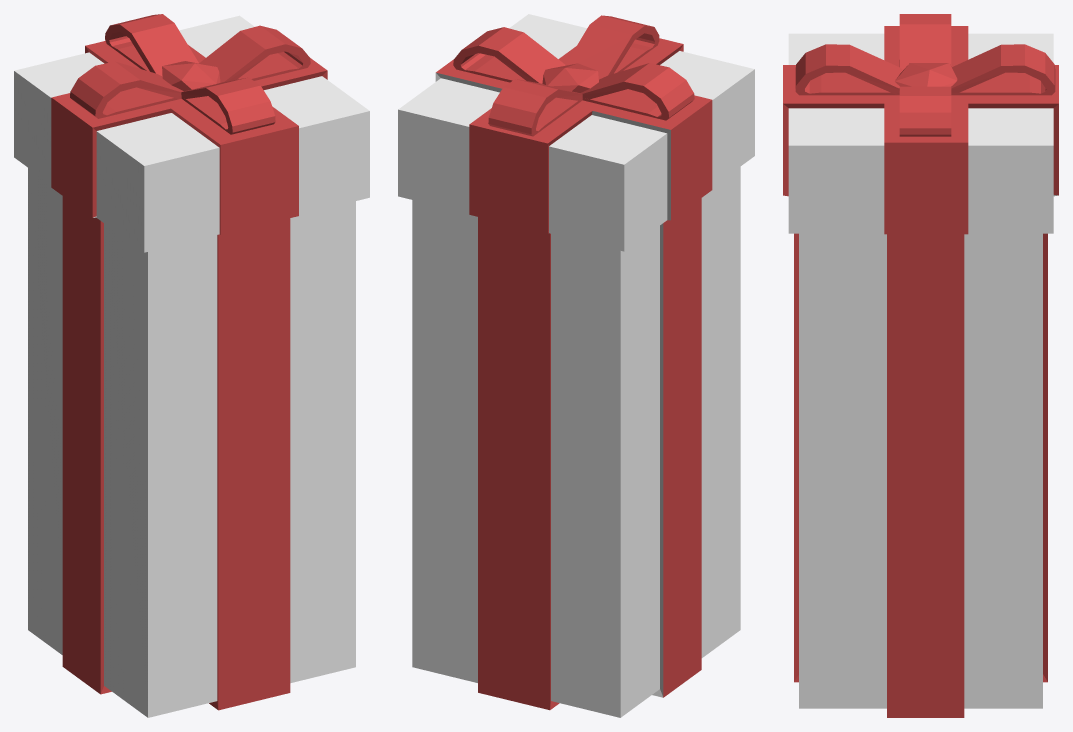
File: tall_present.dae
3 renders of one model, left to right at view 1: azimuth 30°, elevation 25°; view 2: azimuth 150°, elevation 25°; view 3: azimuth 270°, elevation 25°, orthographic.
Visible parts, largest first — view 1: tall_present; view 2: tall_present; view 3: tall_present.
Boxes of the visible parts, box(x1,y1,x2,y2) form: tall_present: box(14, 14, 369, 717); tall_present: box(398, 14, 754, 717); tall_present: box(783, 14, 1058, 717).
Size of the model in its own units: 0.207 by 0.207 by 0.5049.
